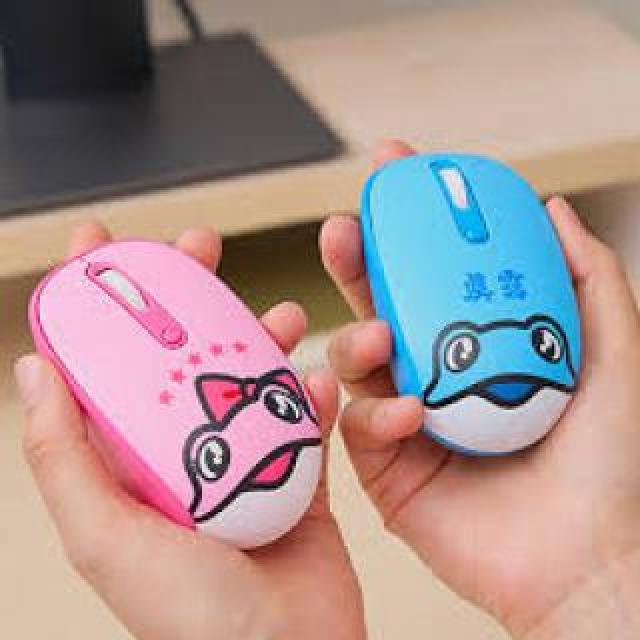mouse: (35, 200, 324, 571), (365, 155, 588, 469)
